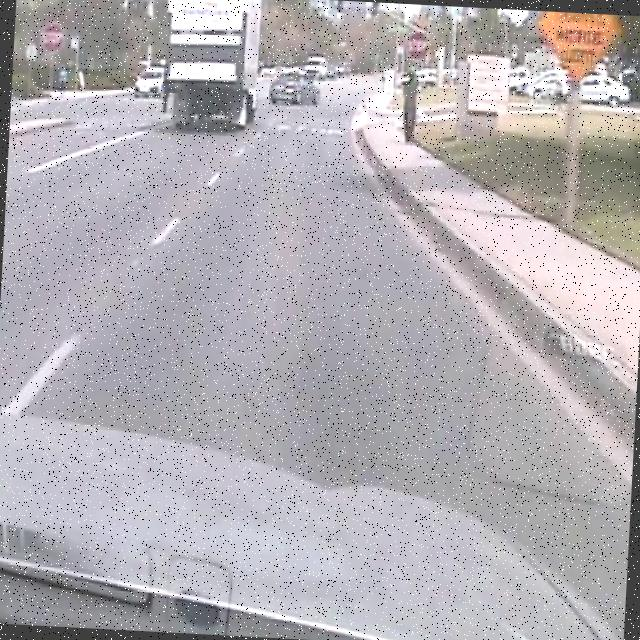Stop: (404, 32, 433, 64)
